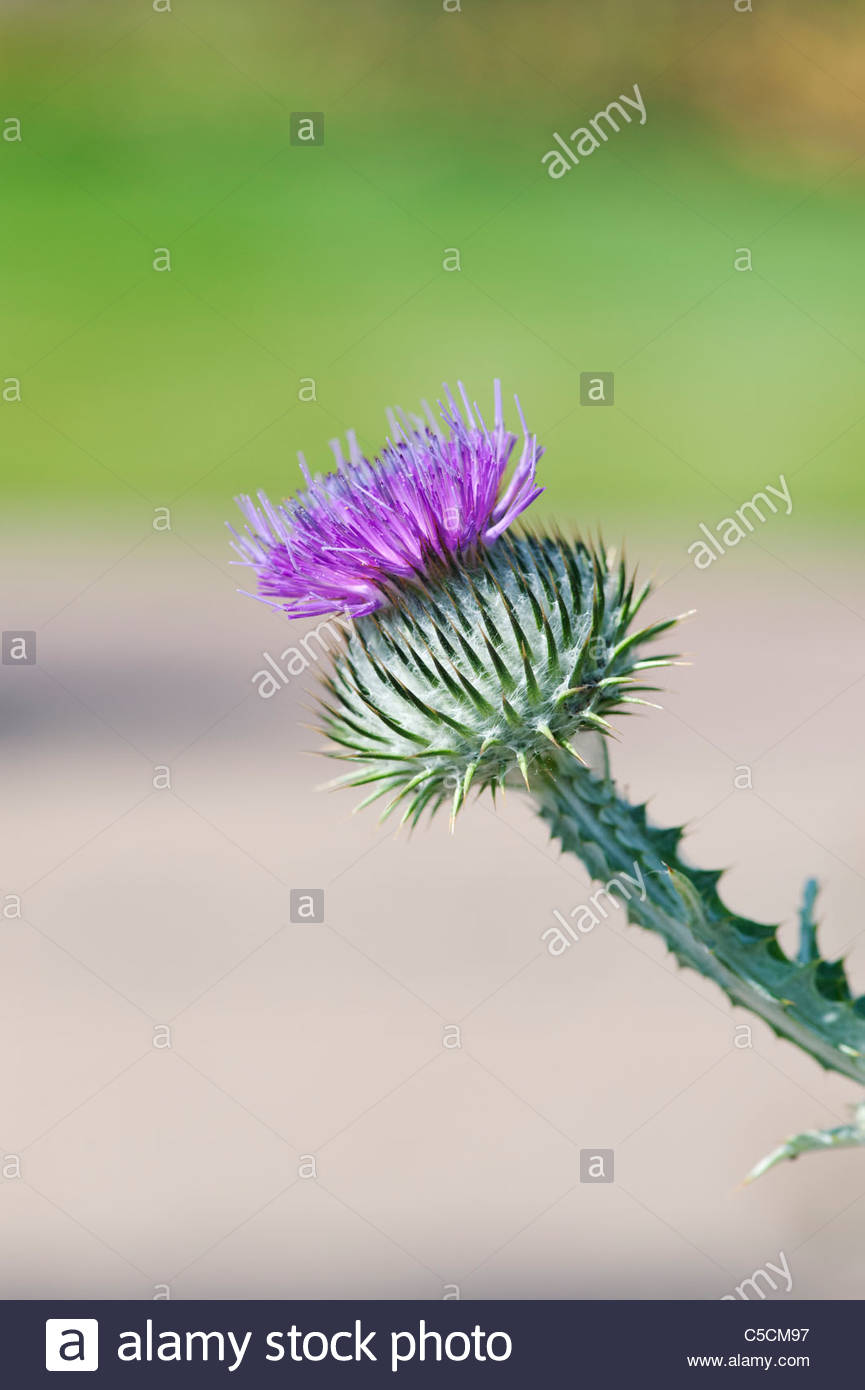thistle: (194, 403, 692, 804)
